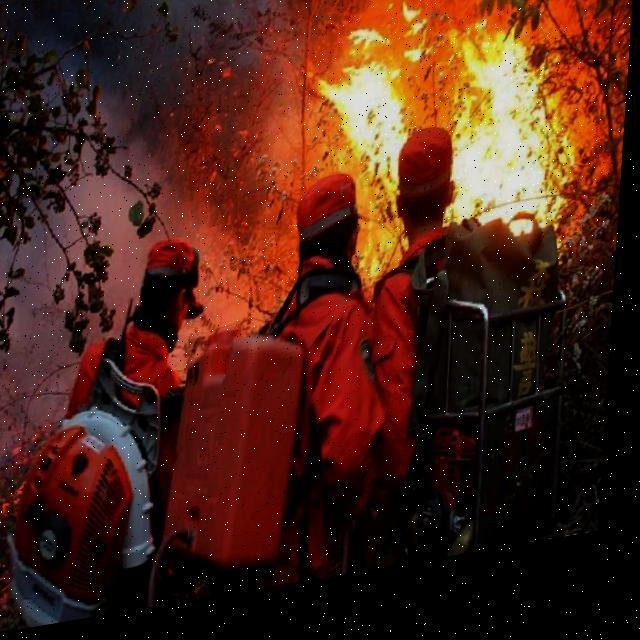Fire: (320, 1, 592, 292)
